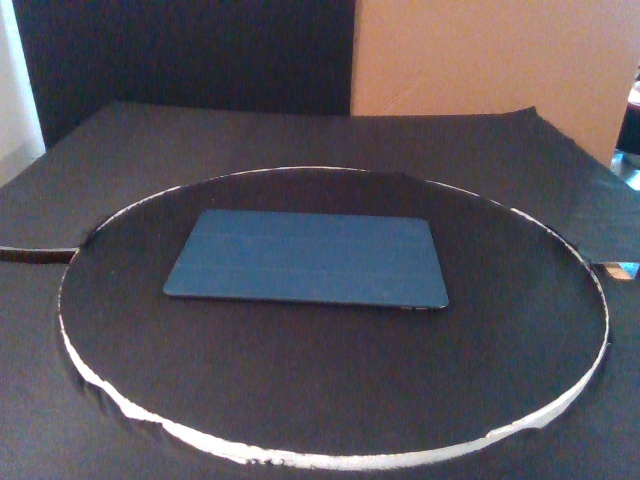laptop: (162, 207, 451, 311)
